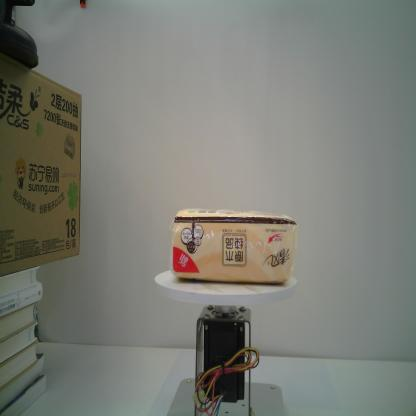Tissue: (168, 206, 299, 286)
